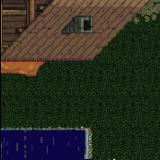Interaction: (0, 113, 76, 137), (77, 113, 101, 160)
Obstacle: (0, 0, 91, 96)
Slow: (0, 133, 84, 160)
